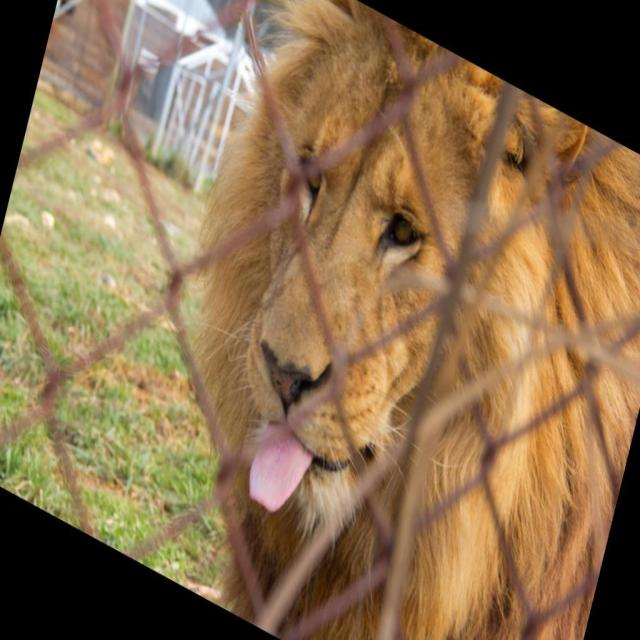Lion: (118, 0, 640, 639)
